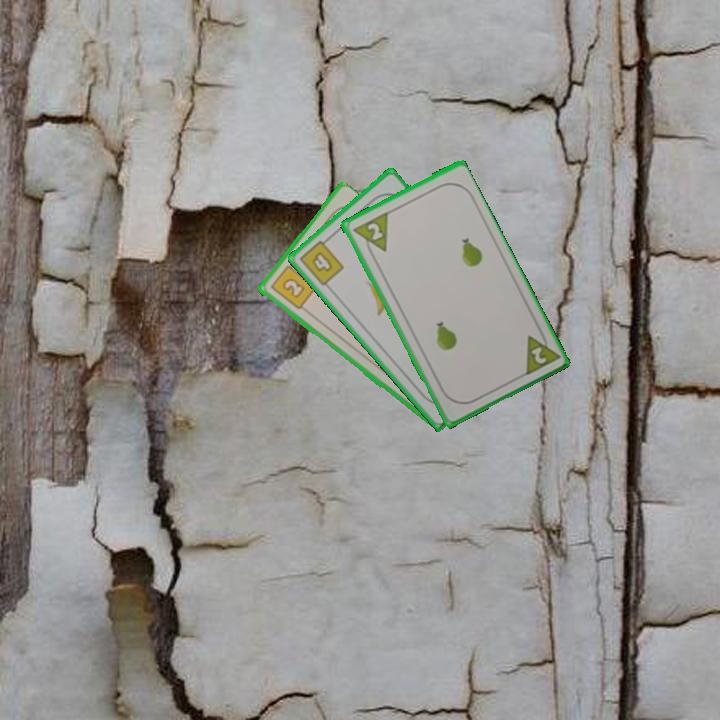2b: (267, 258, 318, 313)
2p: (521, 325, 561, 379), (363, 219, 385, 243)
4b: (296, 233, 347, 289)
